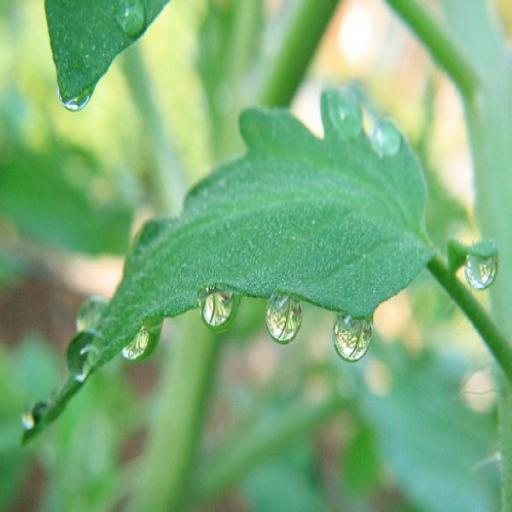Healthy: (14, 77, 440, 454)
